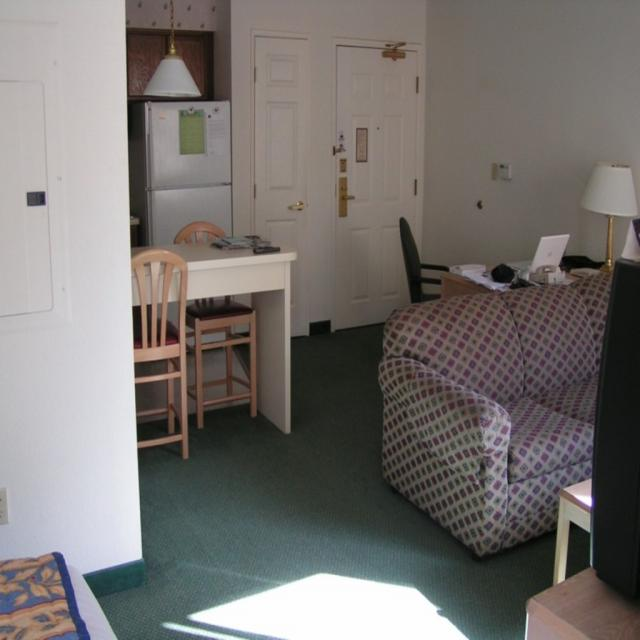chair: (170, 222, 258, 428), (133, 248, 189, 462), (399, 216, 449, 303), (172, 222, 227, 244)
desk: (150, 222, 292, 447)
tv: (590, 258, 639, 602)
